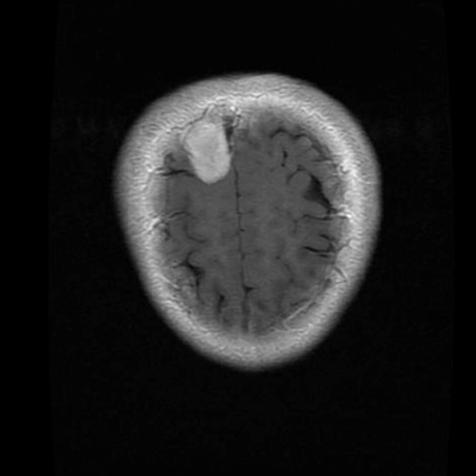Tumour-Pituitary: (164, 106, 255, 188)
